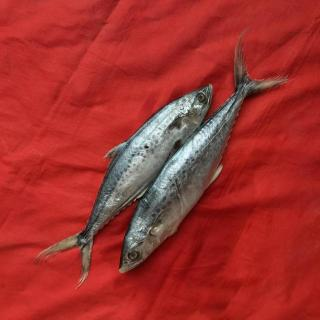Ikan: (119, 35, 291, 276), (32, 83, 216, 289)
